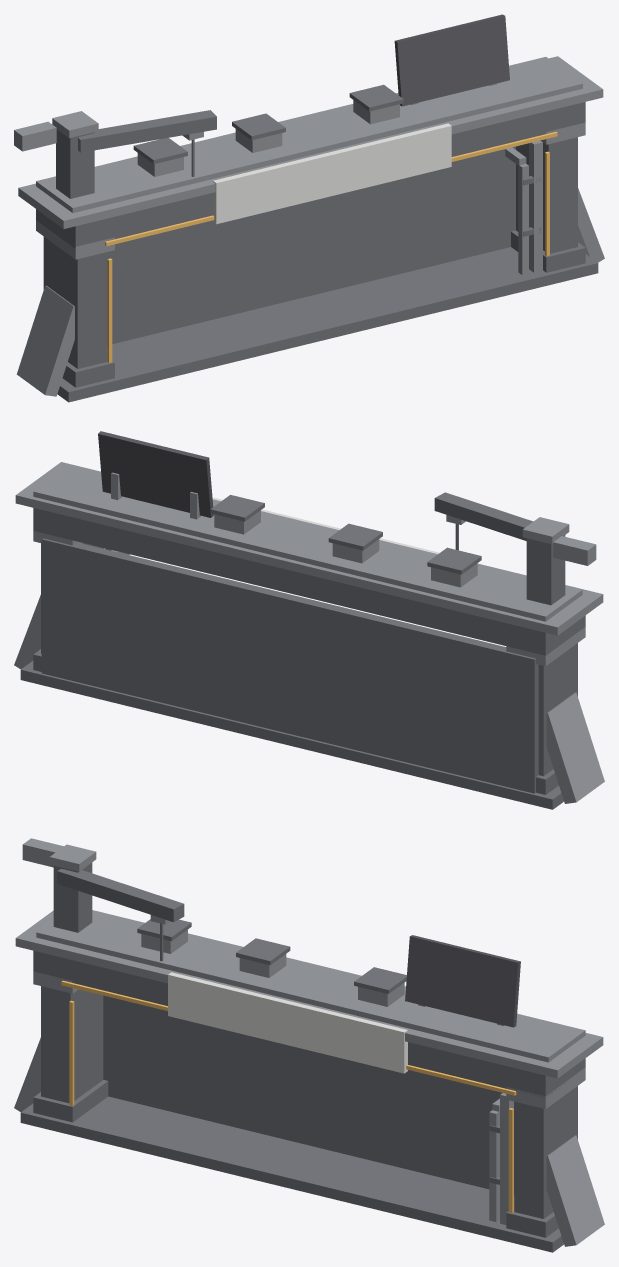
File: upgrade_workshop.fbx
3 renders of one model, top to bottom at view 1: azimuth 30°, elevation 25°; view 2: azimuth 150°, elevation 25°; view 3: azimuth 330°, elevation 25°, orthographic.
Visible parts, largest first — view 1: WS_Dark, WS_Mid, WS_Sign, WS_Billboard, WS_Accent; view 2: WS_Dark, WS_Mid, WS_Billboard; view 3: WS_Dark, WS_Mid, WS_Sign, WS_Billboard, WS_Accent.
Boxes of the visible parts, x1=… form: WS_Dark: x1=36, y1=84, x2=598, y2=402; WS_Mid: x1=14, y1=56, x2=604, y2=396; WS_Sign: x1=213, y1=123, x2=451, y2=224; WS_Billboard: x1=394, y1=14, x2=509, y2=106; WS_Accent: x1=105, y1=131, x2=557, y2=362; WS_Dark: x1=20, y1=492, x2=585, y2=809; WS_Mid: x1=14, y1=462, x2=604, y2=803; WS_Billboard: x1=98, y1=431, x2=213, y2=517; WS_Dark: x1=20, y1=862, x2=585, y2=1252; WS_Mid: x1=14, y1=838, x2=604, y2=1246; WS_Sign: x1=168, y1=972, x2=407, y2=1073; WS_Billboard: x1=405, y1=935, x2=520, y2=1027; WS_Accent: x1=61, y1=980, x2=516, y2=1212.
Bounding box in the file's own units: 116 × 50.25 × 16.2.
